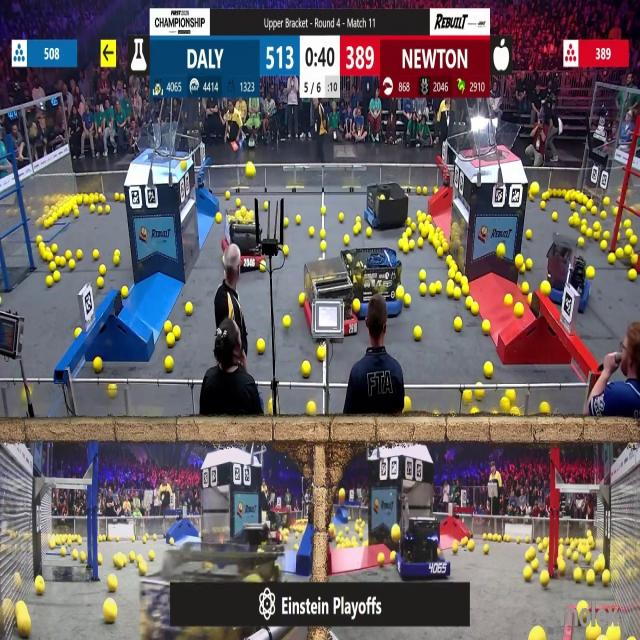ball_airborne: (246, 164, 255, 178), (340, 488, 346, 502)
ball_ground: (20, 614, 32, 638), (104, 600, 117, 622), (530, 628, 544, 640), (36, 578, 45, 596), (302, 361, 312, 376), (94, 356, 103, 372), (572, 569, 582, 583), (256, 340, 265, 355), (108, 576, 117, 591), (608, 628, 620, 639), (595, 558, 605, 571), (485, 361, 493, 377), (540, 282, 549, 296), (166, 356, 174, 371), (602, 570, 610, 585), (454, 317, 462, 331), (318, 347, 326, 361), (588, 570, 596, 584), (414, 326, 422, 340), (516, 304, 524, 318), (140, 561, 148, 575), (308, 403, 316, 417), (540, 570, 548, 584), (558, 560, 566, 574), (114, 556, 123, 568), (500, 397, 509, 409), (163, 322, 170, 337), (403, 396, 410, 411), (167, 335, 175, 348), (524, 567, 532, 580), (474, 388, 483, 399), (283, 316, 291, 328), (378, 554, 386, 566), (588, 268, 596, 280), (629, 270, 637, 282), (522, 282, 530, 294), (172, 326, 180, 338), (463, 390, 471, 402), (516, 254, 524, 266), (447, 284, 455, 296), (454, 286, 462, 298), (631, 254, 639, 266), (526, 550, 534, 562), (108, 384, 116, 396), (185, 303, 192, 316), (484, 320, 491, 333), (353, 300, 360, 313), (504, 294, 512, 305), (540, 404, 548, 415), (428, 284, 436, 295), (530, 182, 538, 193), (40, 249, 48, 260), (420, 283, 427, 295), (470, 304, 477, 316), (462, 284, 469, 296), (506, 390, 514, 400), (435, 281, 441, 294), (98, 277, 105, 288), (298, 293, 305, 304), (420, 271, 427, 282), (531, 559, 538, 570), (93, 249, 100, 260), (396, 286, 403, 297), (465, 296, 471, 308), (594, 221, 602, 230), (130, 553, 137, 563), (577, 238, 584, 248), (600, 240, 607, 250), (74, 327, 81, 337), (467, 540, 474, 550), (68, 261, 75, 271), (121, 286, 127, 297), (100, 266, 106, 277), (320, 241, 326, 252), (46, 276, 52, 287), (354, 223, 360, 234), (403, 294, 409, 305), (390, 552, 396, 563), (55, 272, 61, 283), (307, 226, 313, 237), (269, 406, 275, 417), (205, 562, 213, 570), (66, 250, 73, 259), (435, 248, 442, 257), (571, 553, 578, 562), (541, 190, 548, 199), (283, 246, 289, 256), (608, 253, 614, 263), (76, 250, 82, 260), (113, 255, 119, 265), (100, 192, 106, 202), (452, 541, 458, 551), (456, 273, 462, 283), (148, 552, 154, 562), (526, 261, 532, 271), (587, 553, 593, 563), (618, 248, 624, 258), (632, 236, 638, 246), (444, 242, 450, 252), (83, 197, 89, 207), (594, 232, 601, 240), (625, 246, 632, 254), (460, 538, 467, 546), (98, 554, 103, 565), (398, 239, 403, 250), (365, 229, 371, 238), (526, 231, 532, 240), (80, 553, 86, 562), (72, 551, 78, 560), (49, 263, 55, 272), (587, 230, 593, 239), (579, 224, 585, 233), (402, 245, 408, 254), (51, 244, 57, 253), (407, 217, 413, 226), (412, 221, 418, 230), (432, 239, 438, 248), (419, 222, 425, 231), (579, 206, 585, 215), (604, 198, 610, 207), (340, 212, 345, 222), (284, 217, 289, 227), (345, 236, 350, 246), (569, 216, 574, 226), (410, 240, 415, 250), (56, 255, 61, 265), (603, 232, 609, 240), (539, 202, 545, 210), (448, 272, 454, 280), (470, 409, 476, 417), (484, 544, 490, 552), (592, 207, 598, 215), (407, 230, 413, 238), (61, 549, 67, 557), (447, 255, 453, 263), (611, 208, 617, 216), (520, 266, 526, 274), (401, 232, 407, 240), (137, 554, 143, 562), (38, 243, 44, 251), (216, 213, 221, 222), (295, 214, 300, 223), (553, 212, 558, 221), (320, 231, 325, 240), (74, 209, 79, 218), (601, 211, 606, 220), (422, 187, 428, 194), (36, 237, 42, 244), (293, 543, 299, 550), (419, 240, 424, 248), (224, 190, 229, 198), (98, 206, 103, 214), (237, 200, 242, 208), (265, 203, 270, 211), (543, 554, 548, 562), (570, 202, 575, 210), (114, 192, 119, 200), (528, 294, 532, 304), (417, 186, 422, 194), (363, 539, 368, 547), (565, 195, 570, 203), (428, 235, 433, 243), (504, 534, 509, 542), (106, 206, 110, 215), (583, 219, 589, 225), (356, 215, 361, 222), (517, 536, 522, 543), (143, 535, 148, 542), (432, 186, 437, 193), (359, 535, 364, 542), (321, 207, 325, 215), (260, 266, 264, 274), (92, 205, 96, 213), (119, 192, 123, 200), (114, 249, 119, 255), (170, 538, 175, 544), (418, 210, 422, 217), (537, 543, 541, 550), (0, 297, 4, 304), (488, 533, 492, 540), (152, 534, 156, 540), (116, 535, 120, 541), (132, 535, 136, 541), (618, 234, 622, 240), (484, 534, 488, 540), (119, 538, 122, 545), (99, 535, 102, 542)
goal: (465, 121, 521, 160), (130, 130, 188, 161)
robot_blue: (342, 248, 402, 319), (541, 236, 593, 316), (400, 515, 448, 578), (364, 182, 408, 231)
robot_red: (297, 255, 362, 342), (224, 205, 265, 271)
